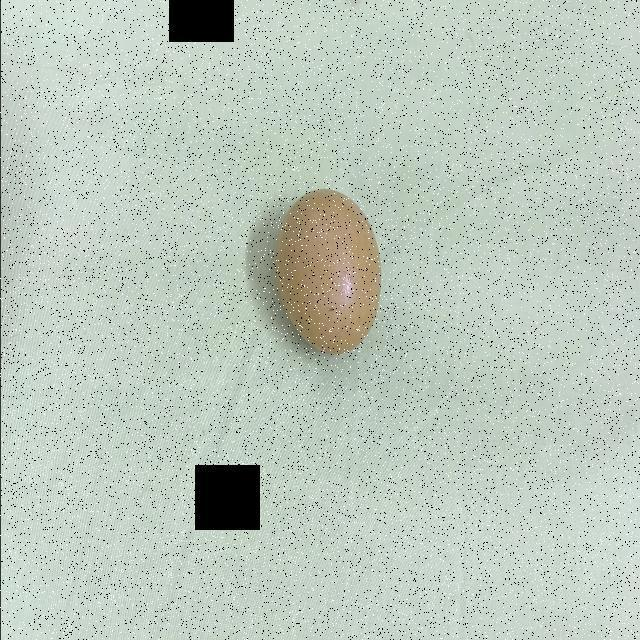egg: (268, 179, 391, 361)
